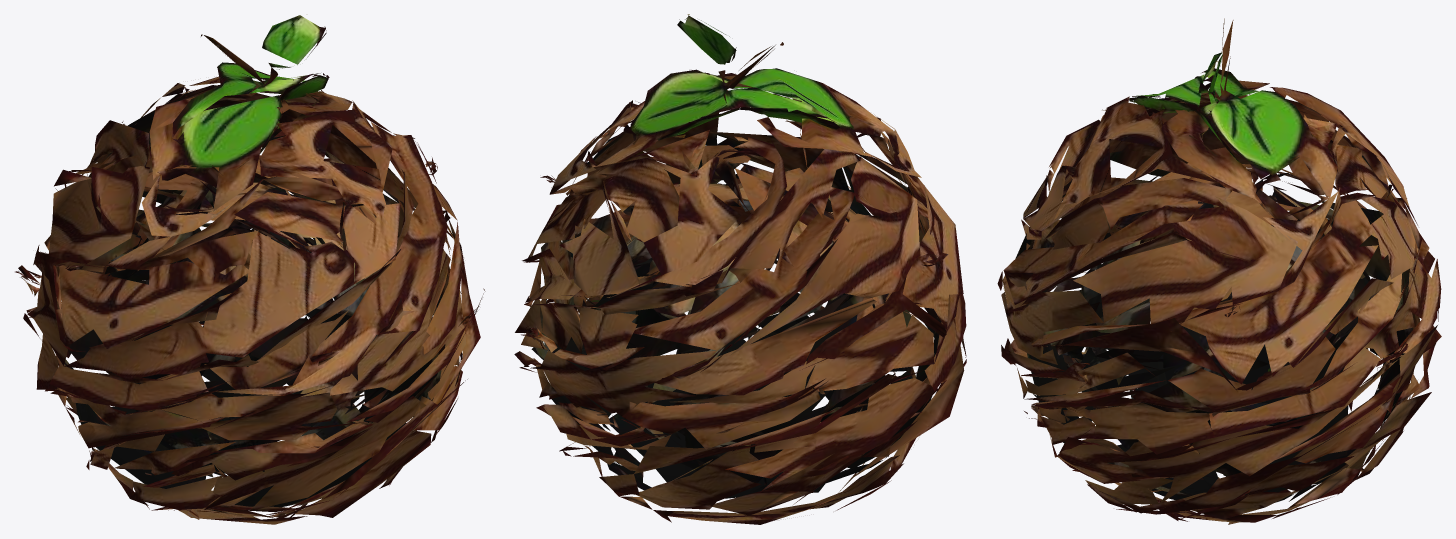
File: yuva_evi.glb
3 views of the same model, side by side, from view 1: azimuth 30°, elevation 25°; view 2: azimuth 150°, elevation 25°; view 3: azimuth 270°, elevation 25° (orthographic).
Visible parts, largest first — view 1: geometry_0; view 2: geometry_0; view 3: geometry_0.
Part boxes in pixels (x1,y1,x2,y2): geometry_0: (15, 15, 485, 524); geometry_0: (514, 14, 966, 524); geometry_0: (997, 18, 1441, 524).
Bounding box in the file's own units: 0.8408 × 0.9966 × 0.8403.
1 material, 1 textured.
